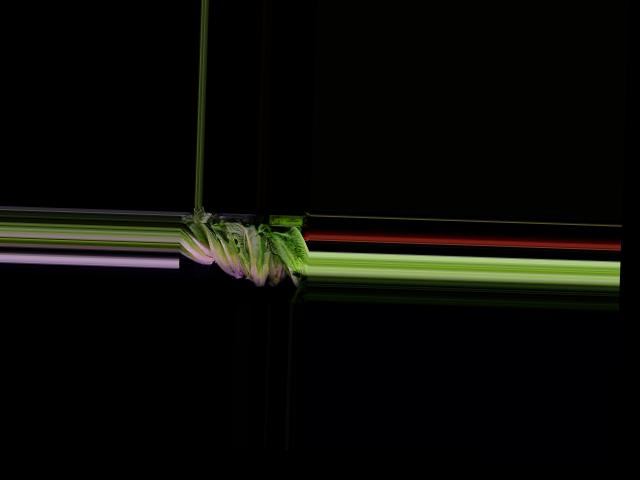lettuce: (178, 224, 218, 267)
